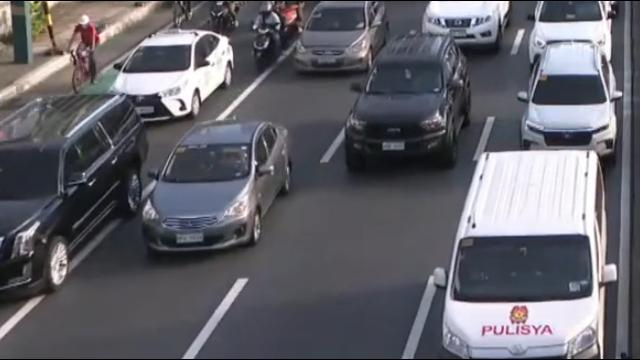car: (0, 92, 147, 299), (143, 118, 292, 252), (348, 37, 472, 170), (106, 29, 232, 118), (520, 43, 621, 154), (295, 3, 389, 72), (524, 1, 617, 64), (421, 0, 512, 46)
motorcycle: (248, 5, 284, 72), (208, 0, 240, 40), (274, 0, 304, 41)
van: (438, 150, 619, 360)
